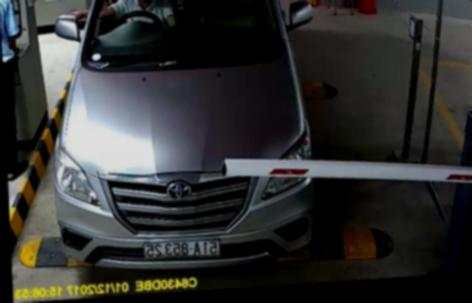License_Plate: (141, 237, 223, 263)
